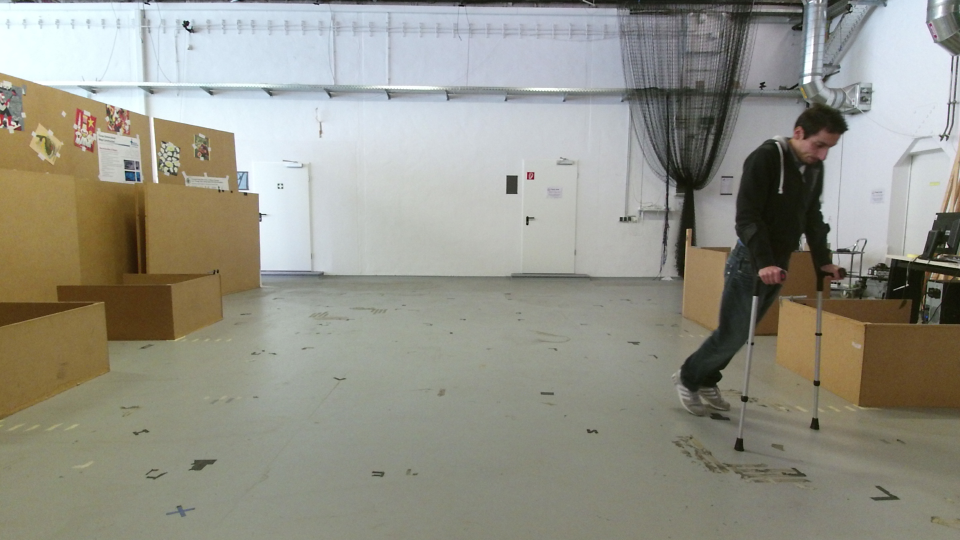crutches: (668, 101, 849, 453)
